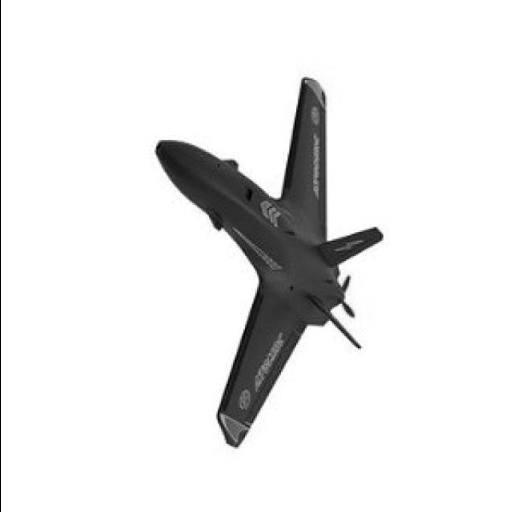uav: (154, 75, 386, 454)
